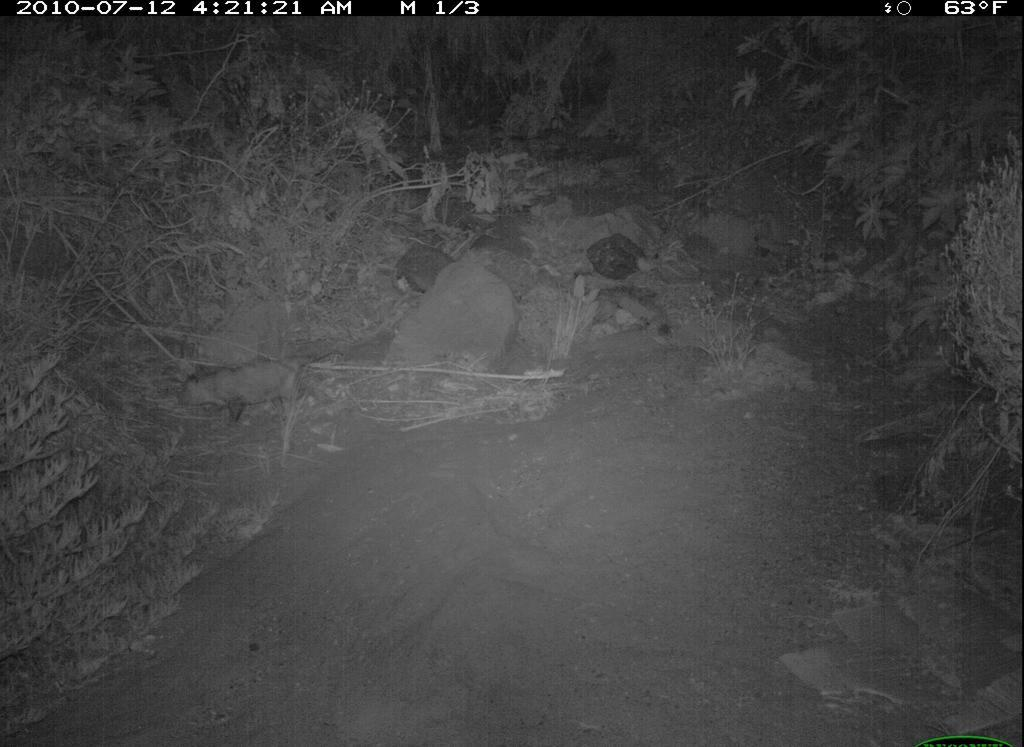opossum: (166, 340, 336, 434)
